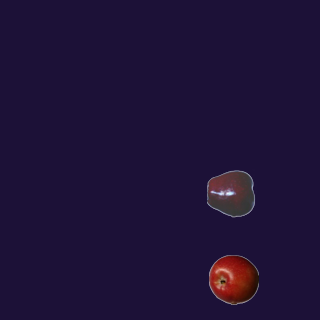Apple Braeburn: (208, 254, 258, 304)
Apple Red Delicious: (206, 168, 256, 218)
